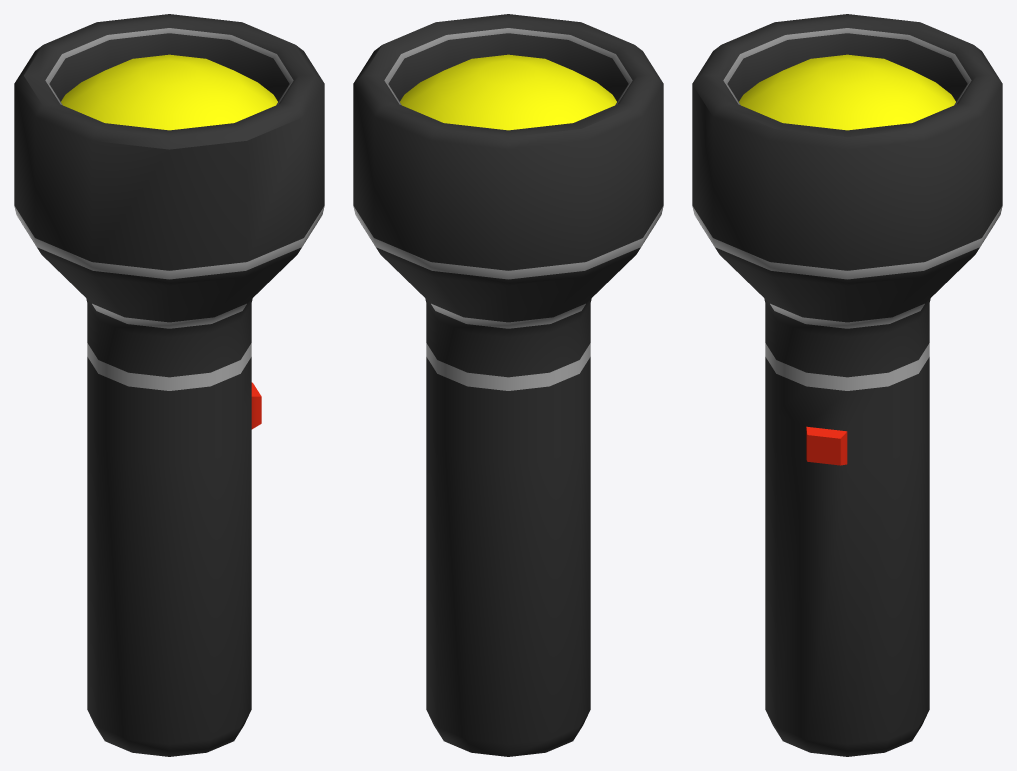
The model's file is fener.fbx.
3 renders of one model, left to right at view 1: azimuth 30°, elevation 25°; view 2: azimuth 150°, elevation 25°; view 3: azimuth 270°, elevation 25°, orthographic.
Parts seen in each view (by area): view 1: fener; view 2: fener; view 3: fener.
Part boxes in pixels (bbox=[...]): fener: bbox=[14, 14, 324, 756]; fener: bbox=[353, 14, 663, 756]; fener: bbox=[692, 14, 1002, 756].
Bounding box in the file's own units: 31.64 × 74.02 × 31.64.
